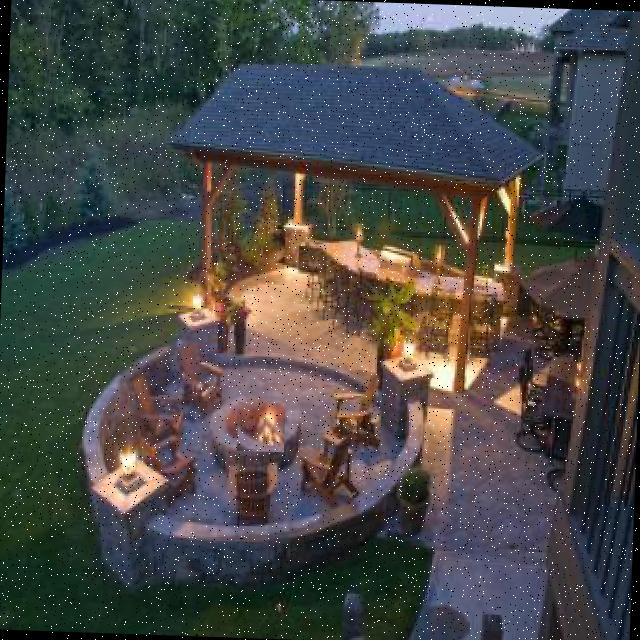fire: (236, 401, 285, 452)
